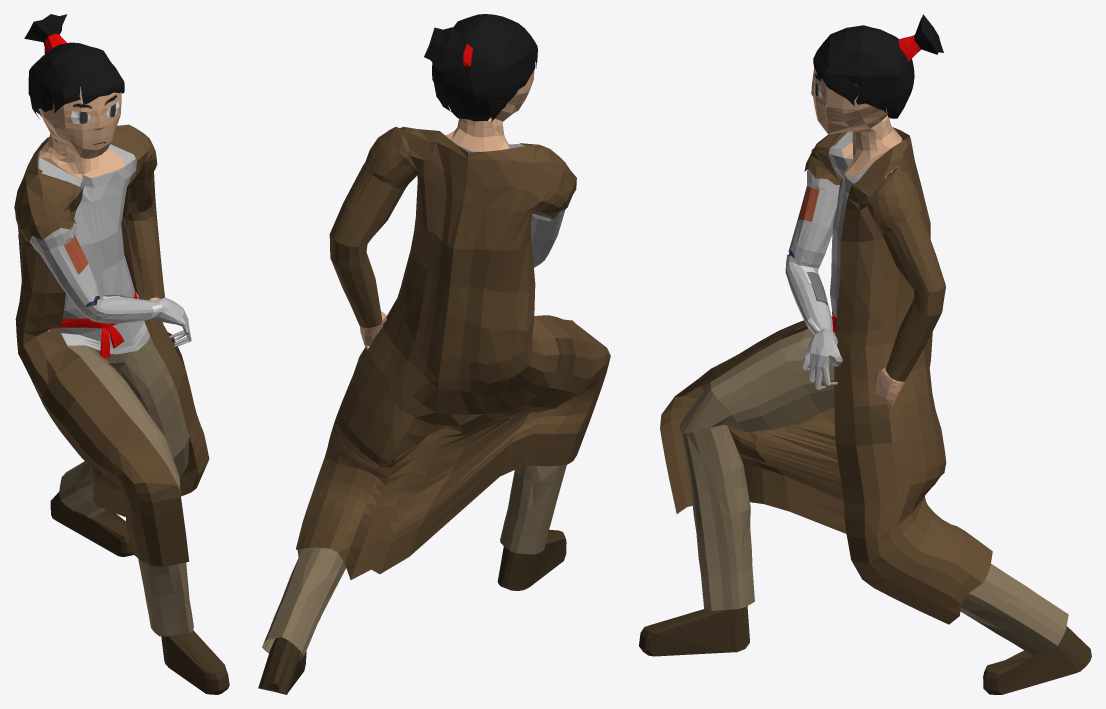
The model's file is One_RL_000022.obj.
3 views of the same model, side by side, from view 1: azimuth 30°, elevation 25°; view 2: azimuth 150°, elevation 25°; view 3: azimuth 270°, elevation 25° (orthographic). The views are drawn at different scales.
Visible parts, largest first — view 1: Hair_Cube.004; view 2: Hair_Cube.004; view 3: Hair_Cube.004.
Part boxes in pixels (left/top/right/bottom): Hair_Cube.004: left=14, top=14, right=229, bottom=694; Hair_Cube.004: left=258, top=14, right=610, bottom=694; Hair_Cube.004: left=639, top=14, right=1091, bottom=694.
Bounding box in the file's own units: 1.23 × 3.42 × 2.28.
